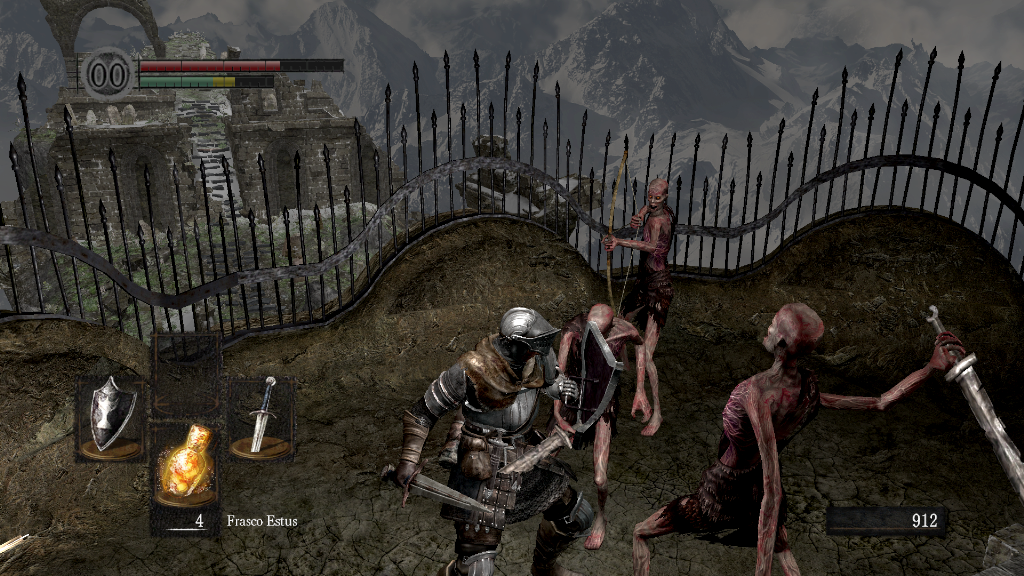health: (138, 58, 343, 71)
hollow: (632, 301, 1024, 572), (601, 149, 680, 439)
humanity: (80, 45, 136, 102)
player: (380, 307, 623, 576)
souls: (825, 506, 945, 536)
stamina: (138, 74, 274, 88)
